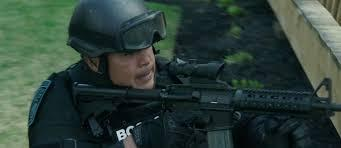rifle: (72, 58, 341, 148)
